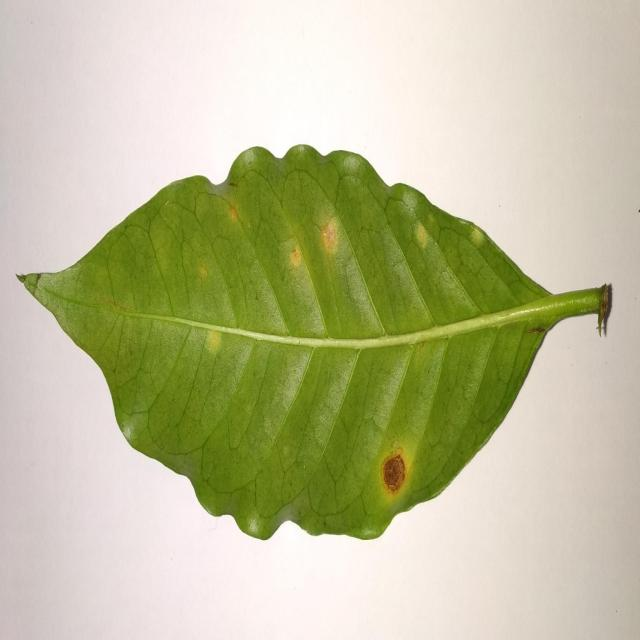Enfermedad-Mancha-de-hierro: (18, 144, 613, 543)
